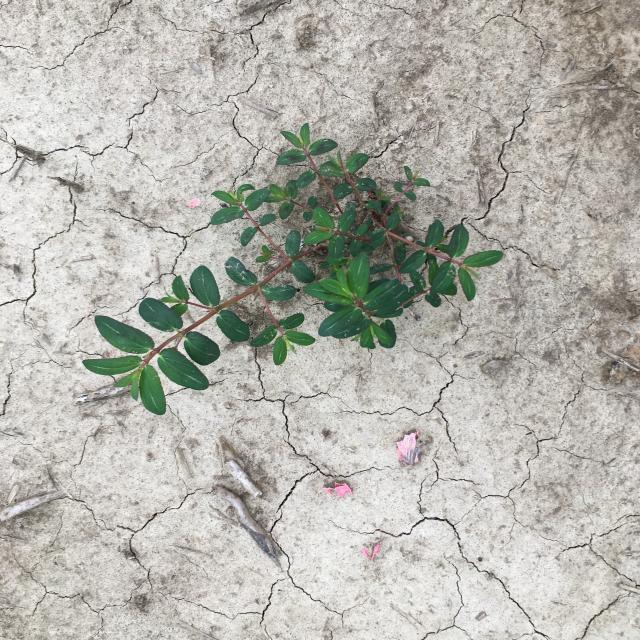MorningGlory: (82, 123, 504, 416)
